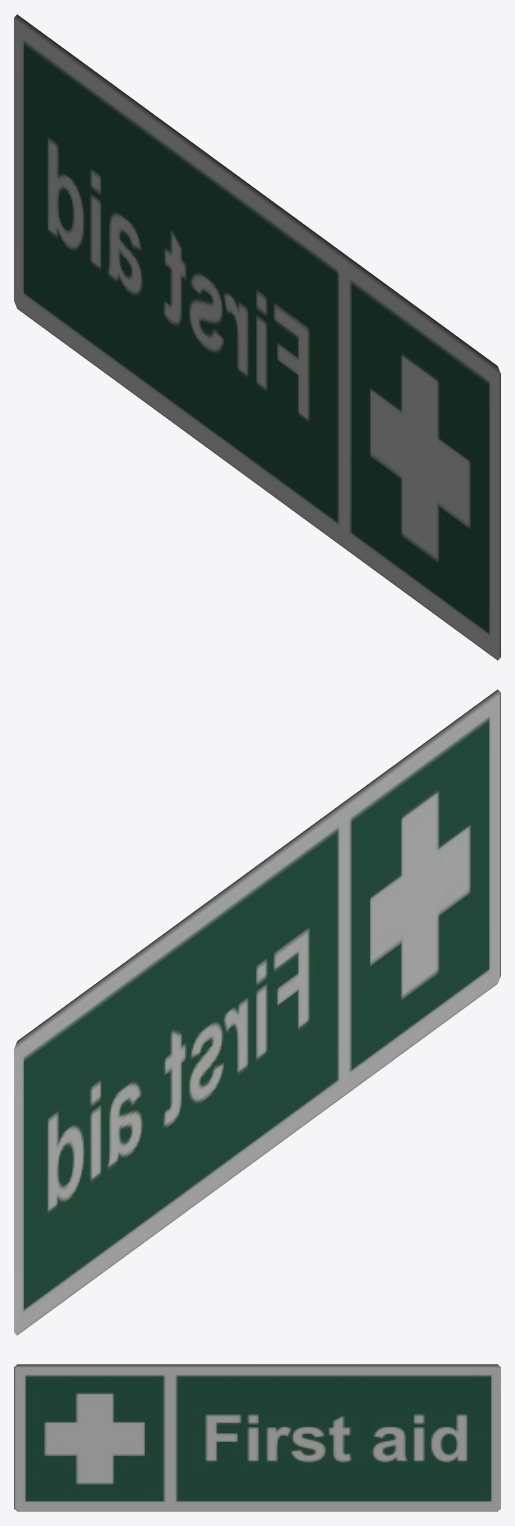
File: SM_SignB_07.FBX
3 renders of one model, top to bottom at view 1: azimuth 30°, elevation 25°; view 2: azimuth 150°, elevation 25°; view 3: azimuth 270°, elevation 25°, orthographic. The views are drawn at different scales.
Parts seen in each view (by area): view 1: SM_SignB_07; view 2: SM_SignB_07; view 3: SM_SignB_07.
Part boxes in pixels (<box>): SM_SignB_07: <box>14,14,500,660</box>; SM_SignB_07: <box>14,689,500,1335</box>; SM_SignB_07: <box>14,1364,500,1511</box>.
Bounding box in the file's own units: 2.65e-06 × 27.16 × 9.06.
